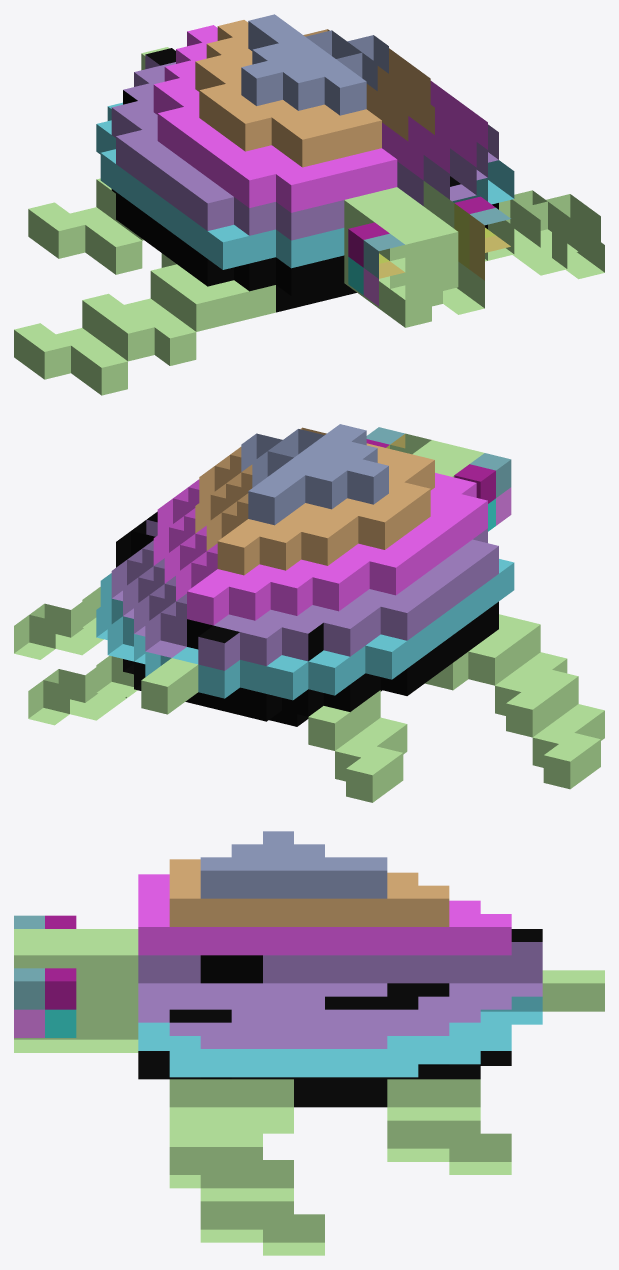
Rendered from seaturtle.glb.
3 renders of one model, top to bottom at view 1: azimuth 30°, elevation 25°; view 2: azimuth 150°, elevation 25°; view 3: azimuth 270°, elevation 25°, orthographic.
Parts seen in each view (by area): view 1: Fish; view 2: Fish; view 3: Fish.
Boxes of the visible parts, x1,y1,x2,y2 form: Fish: [14, 14, 604, 395]; Fish: [14, 424, 604, 802]; Fish: [14, 831, 604, 1255].
Bounding box in the file's own units: 42 × 18 × 38.
